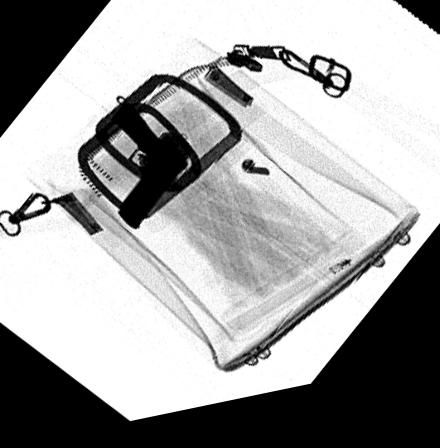Gun: (110, 103, 186, 235)
